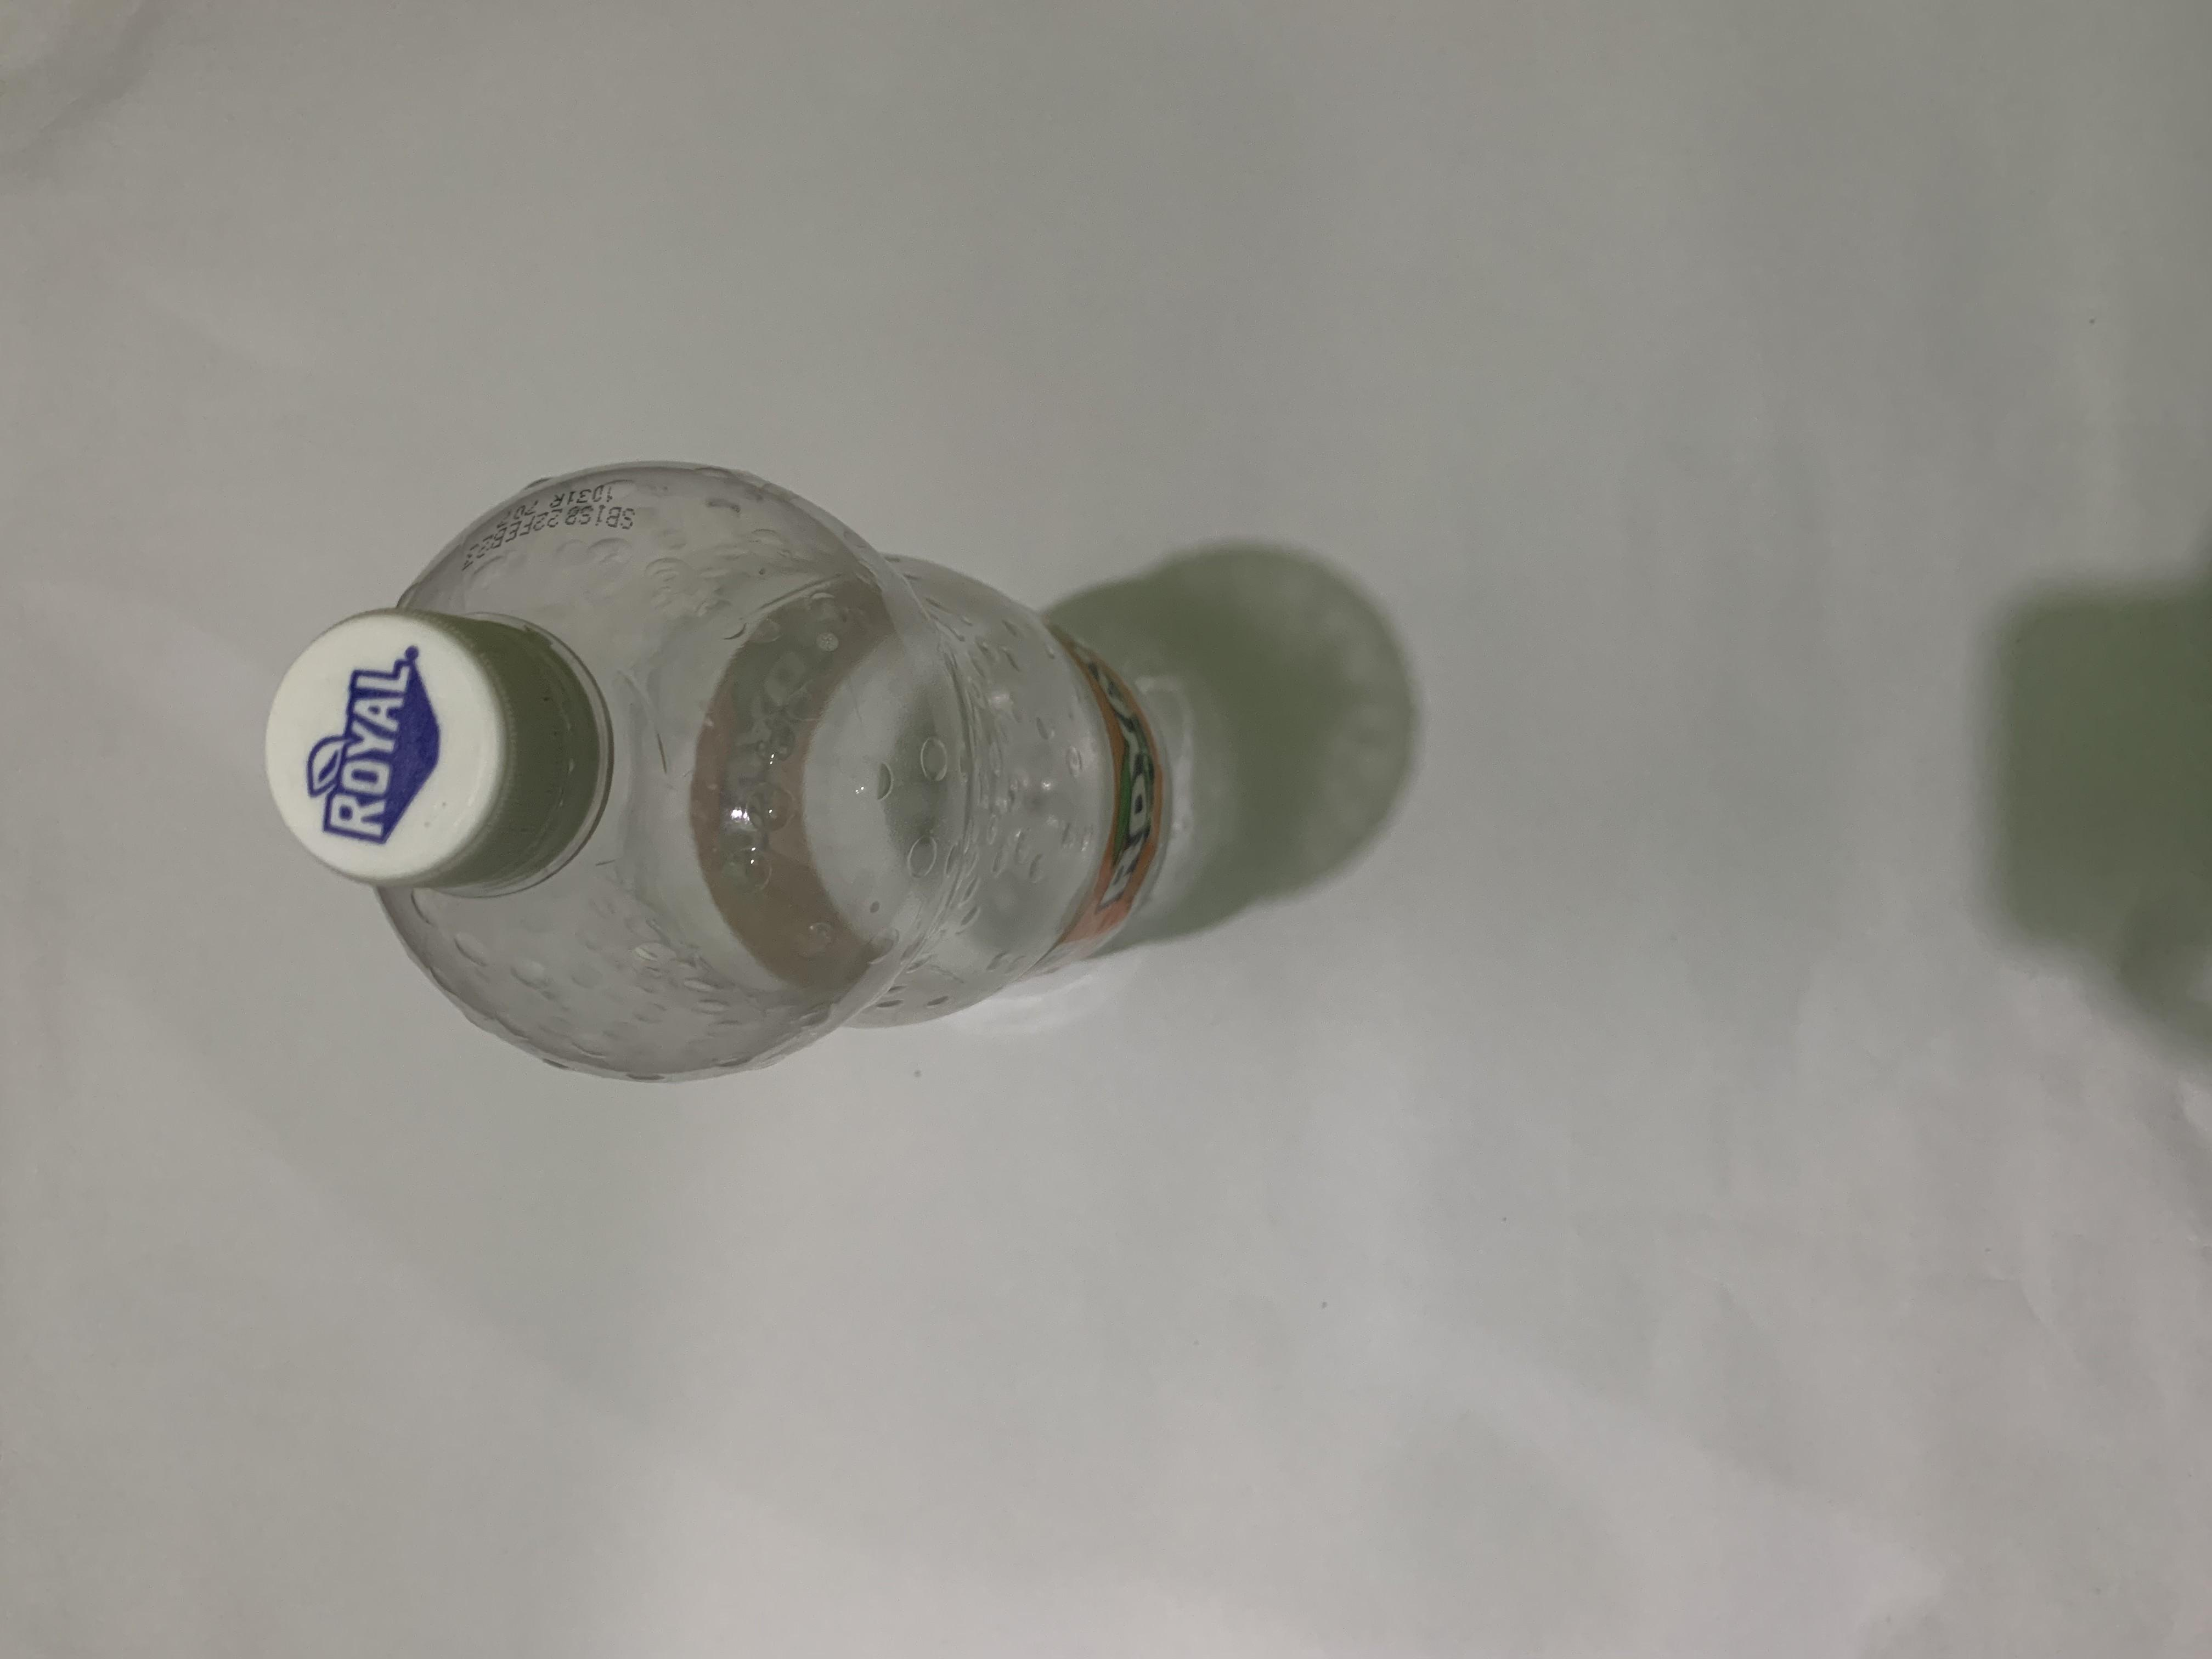bottle: (0, 188, 496, 917)
